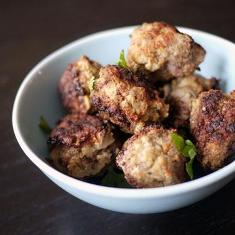meatballs: (121, 127, 188, 185), (91, 67, 155, 125), (136, 24, 198, 81), (50, 113, 108, 170), (197, 95, 235, 164), (60, 64, 104, 112)
